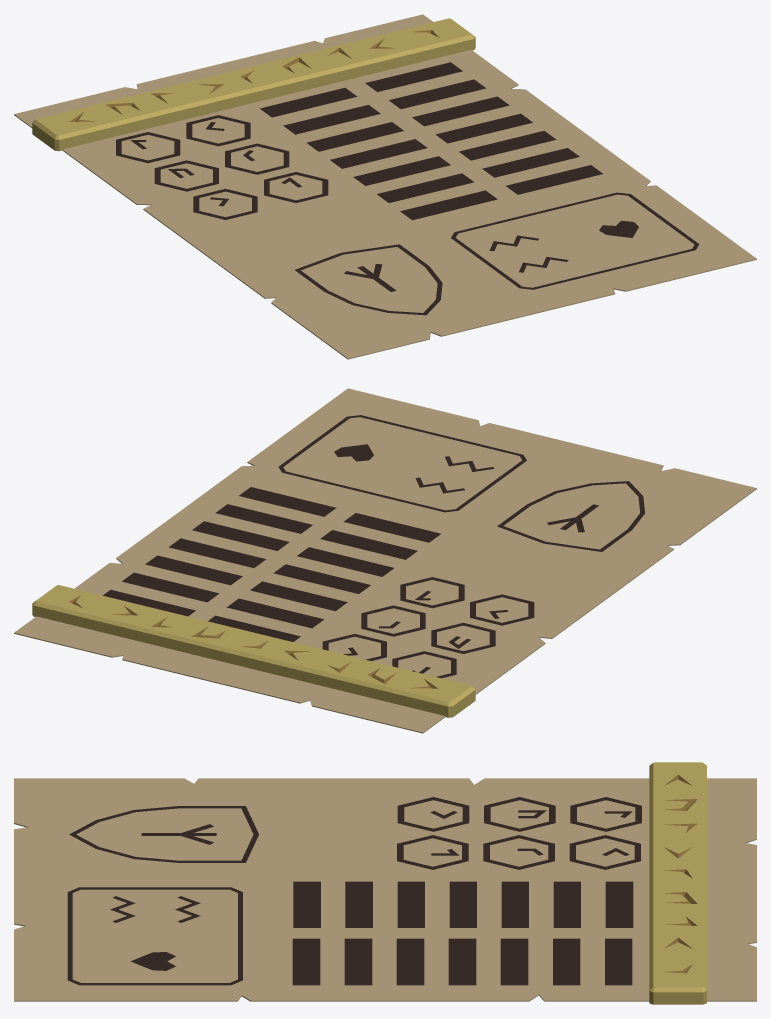
The model's file is character-sheet-b91337.glb.
3 views of the same model, one above another, from view 1: azimuth 30°, elevation 25°; view 2: azimuth 150°, elevation 25°; view 3: azimuth 270°, elevation 25° (orthographic). The views are drawn at different scales.
Visible parts, largest first — view 1: sheet; view 2: sheet; view 3: sheet.
Boxes of the visible parts, left/top/right/bottom form: sheet: left=14, top=14, right=756, bottom=359; sheet: left=14, top=388, right=756, bottom=733; sheet: left=14, top=762, right=756, bottom=1004.
Bounding box in the file's own units: 0.216 × 0.007 × 0.297.
